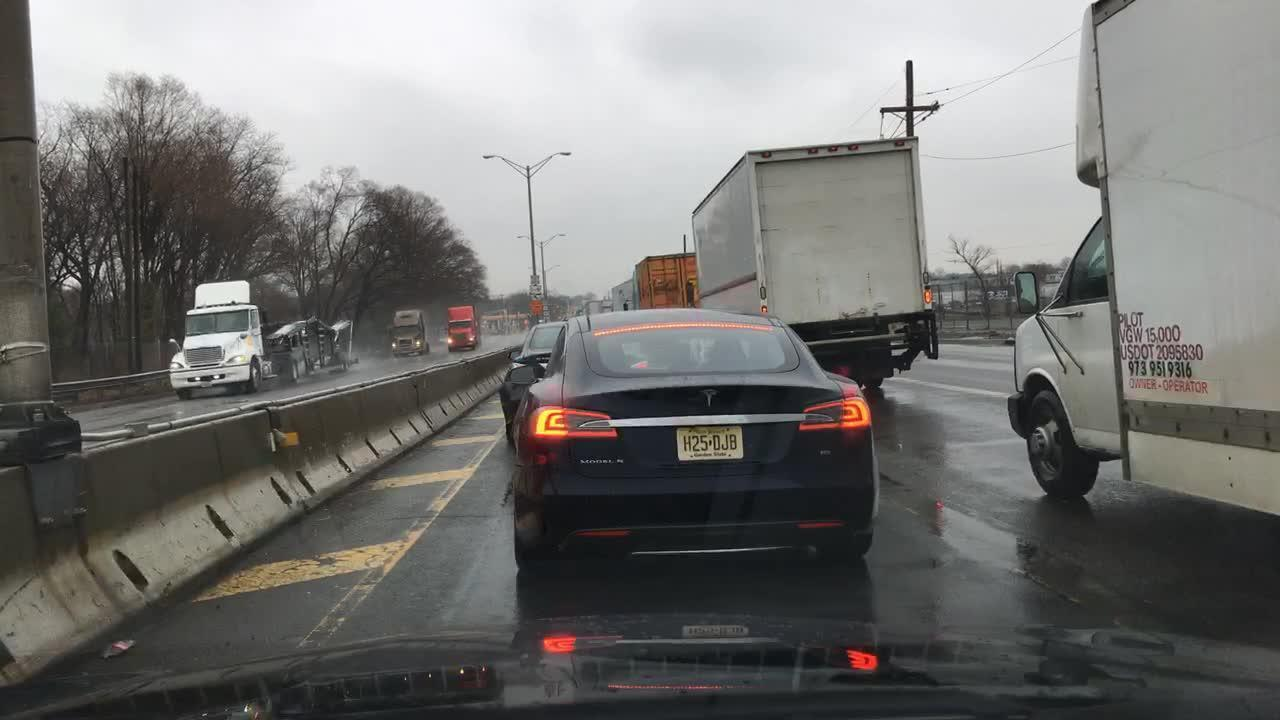no class: (698, 382, 721, 417)
